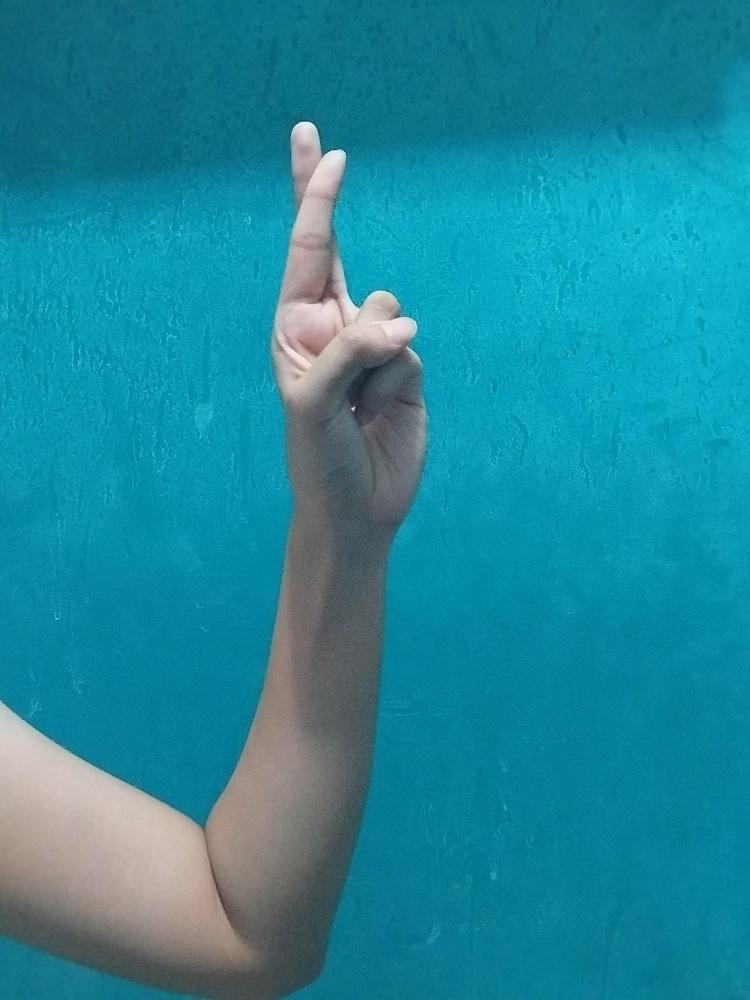r: (266, 117, 431, 535)
